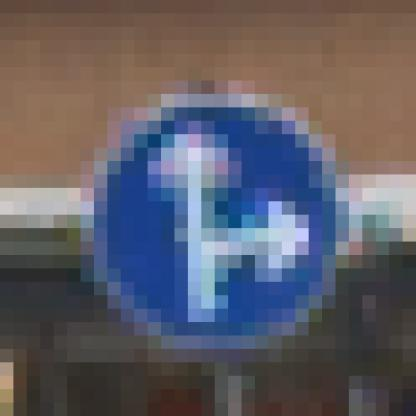Straight or Right: (68, 68, 350, 350)
